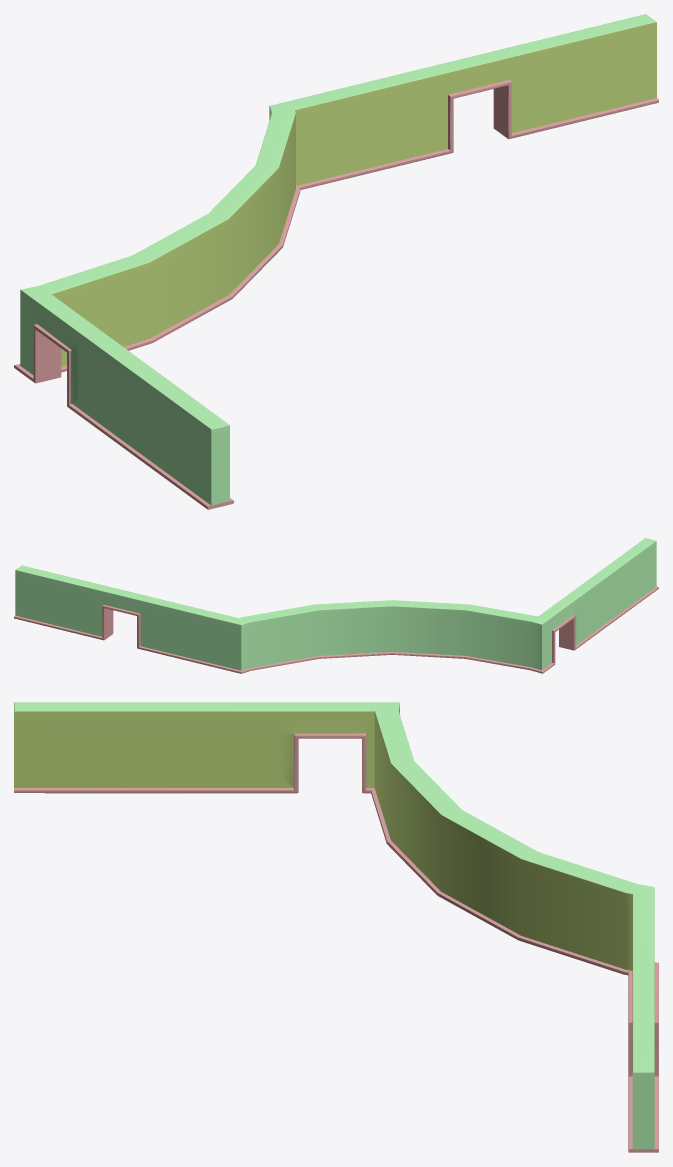
File: InnerWall_3.fbx
3 renders of one model, top to bottom at view 1: azimuth 30°, elevation 25°; view 2: azimuth 150°, elevation 25°; view 3: azimuth 270°, elevation 25°, orthographic. The views are drawn at different scales.
Visible parts, largest first — view 1: polySurface56; view 2: polySurface56; view 3: polySurface56.
Boxes of the visible parts, <box> form: polySurface56: <box>14,14,658,509</box>; polySurface56: <box>14,538,658,673</box>; polySurface56: <box>14,702,658,1152</box>.
Bounding box in the file's own units: 40.29 × 4.06 × 29.51.
